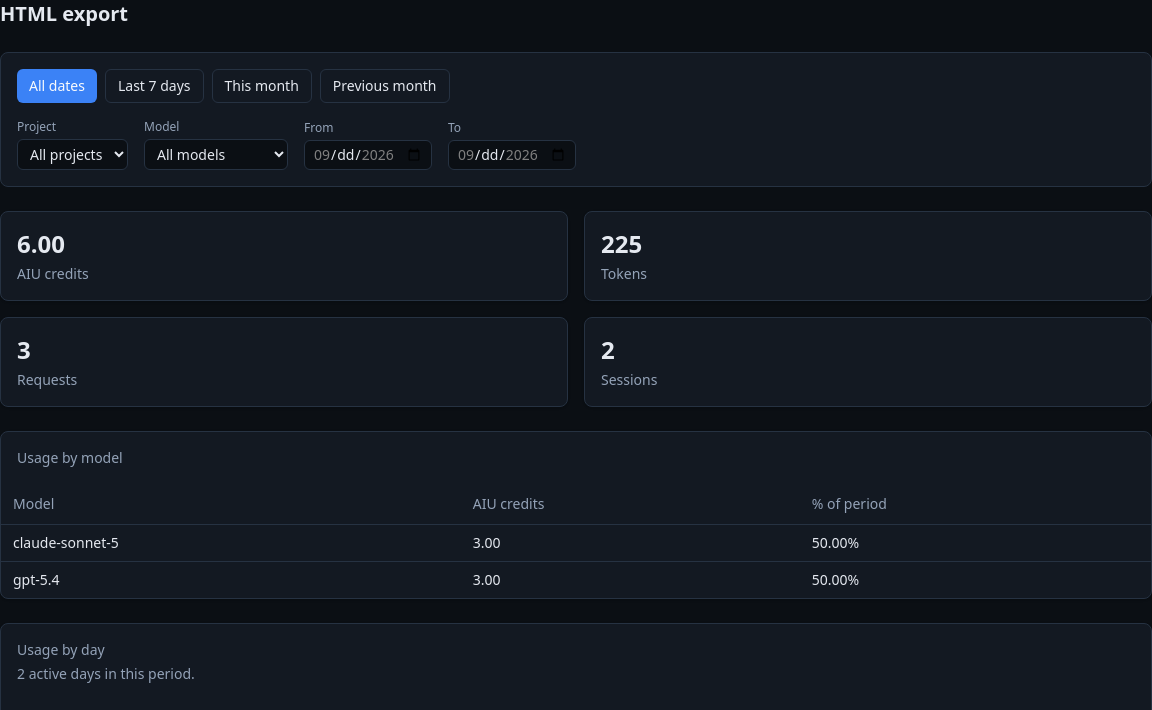
ExportPage › hides stale preview content after a refreshed preview request fails
The image size is (1152, 710).
Expected: the text "6.00" is shown, [17,227,65,260]
Step 1. Select "gpt-5.4" in the dropdown labelled "Model" → point(216, 154), box [144,139,288,170]
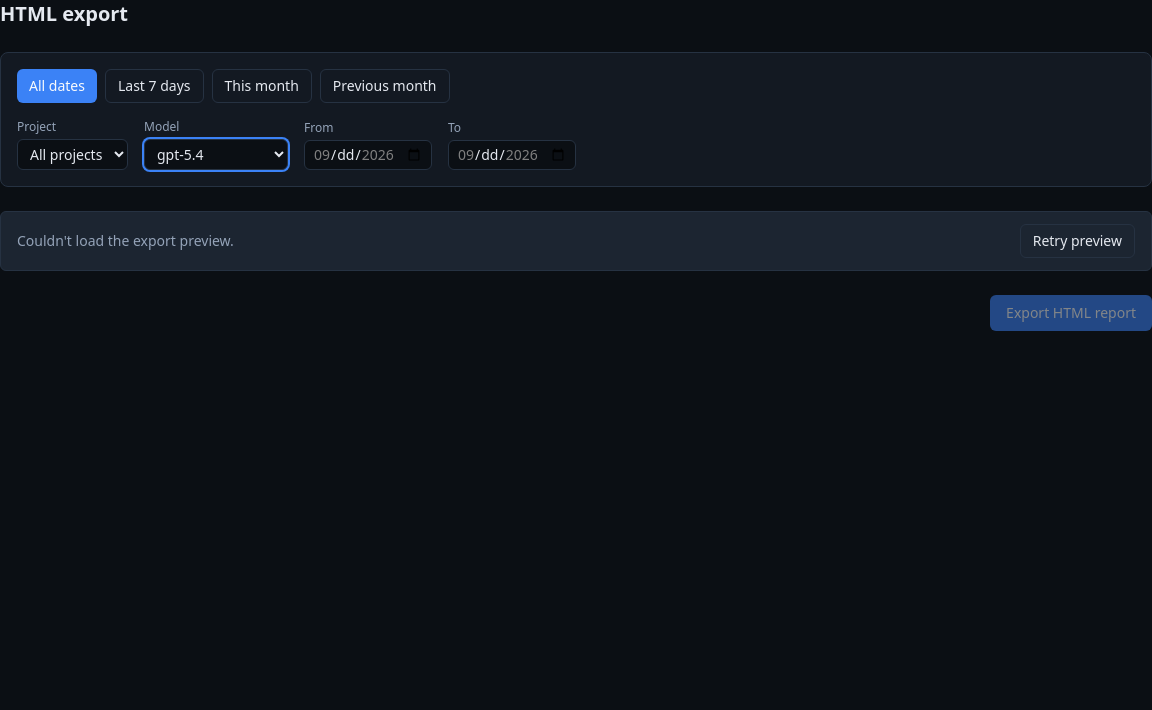
Now the message shows "Couldn't load the export preview.", box [17,231,234,250]
Now the text "6.00" is gone
Now the heading "Usage by model" is gone
